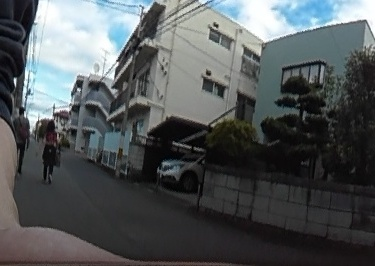person: (40, 117, 60, 181), (11, 104, 30, 171)
